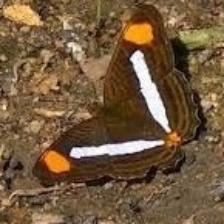butterfly: (32, 6, 206, 187)
